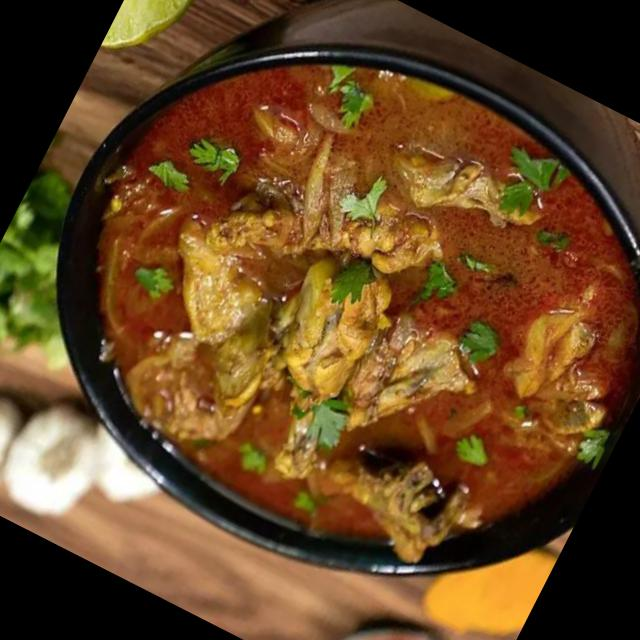chicken: (37, 0, 640, 636)
